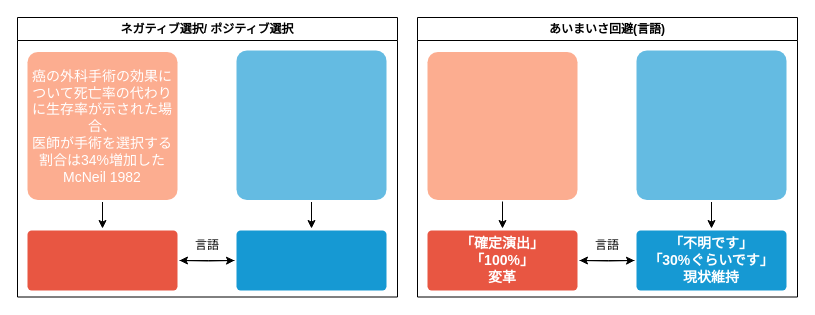
Image size: 815x315. Some labels were removed from this diagram. The shapes that lost their labels are listed below. From the top down, each one's centre as x and y in pixels, then its label:
At point 711,125: "結果がどうなるか 見込みがはっきりしない行動を本能的に心地悪く感じること".
At point 102,260: "「生存率」 変革".
At point 311,260: "「死亡率」 現状維持".
